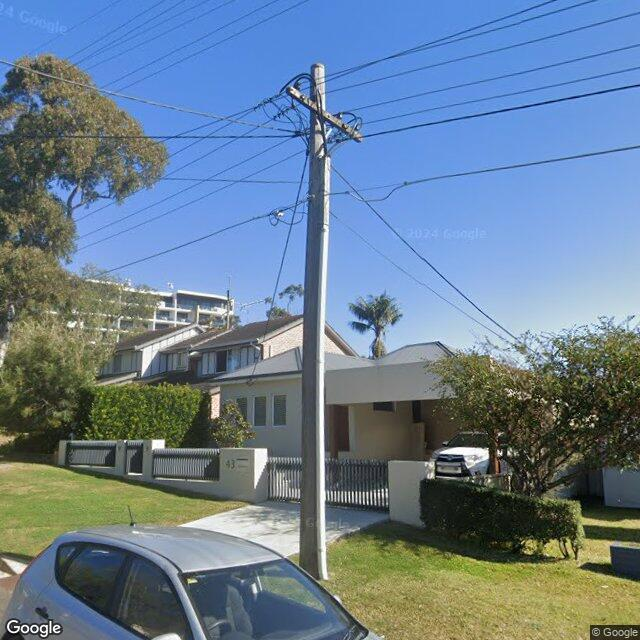crossarm: (286, 86, 364, 144)
timber-pole: (298, 64, 332, 579)
